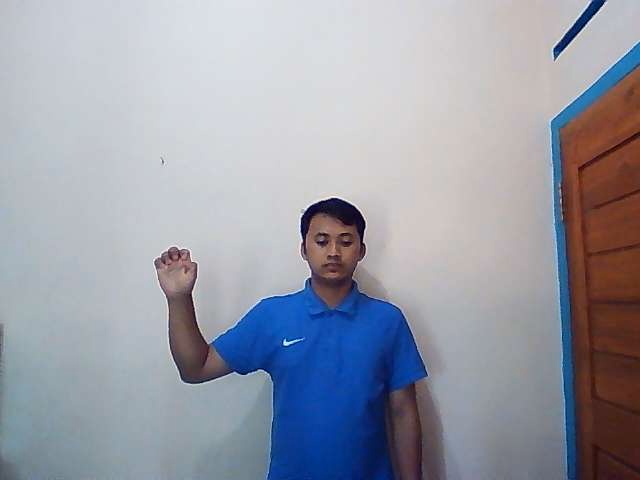E: (154, 245, 199, 298)
